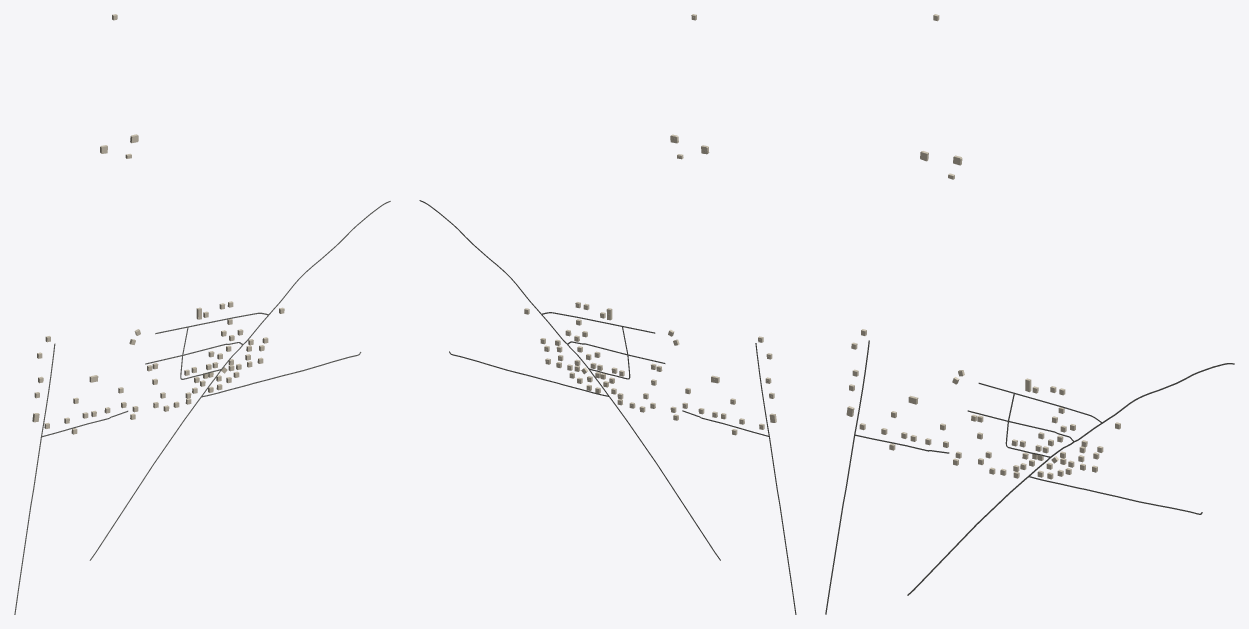
File: irbid_3591_3254.glb
3 renders of one model, left to right at view 1: azimuth 30°, elevation 25°; view 2: azimuth 150°, elevation 25°; view 3: azimuth 330°, elevation 25°, orthographic. The views are drawn at different scales.
Parts seen in each view (by area): view 1: Road .001; view 2: Road .001; view 3: Road .001.
Boxes of the visible parts, x1,y1,x2,y2 form: Road .001: (89, 201, 390, 560); Road .001: (419, 200, 720, 560); Road .001: (907, 363, 1234, 595).
Bounding box in the file's own units: 1039 × 1517 × 8.7.
